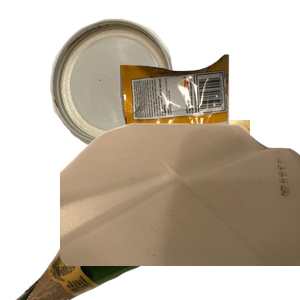glass: (13, 120, 253, 300)
metal: (47, 16, 214, 157)
plastic: (60, 120, 300, 300)
trash: (117, 52, 300, 193)
